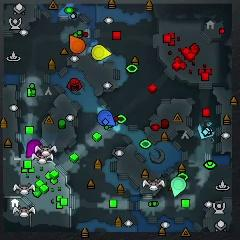p1: (98, 110, 116, 126)
p2: (171, 177, 187, 196)
p3: (26, 140, 42, 159)
p4: (92, 44, 112, 60)
p5: (69, 35, 86, 54)
x3: (197, 122, 215, 140)
